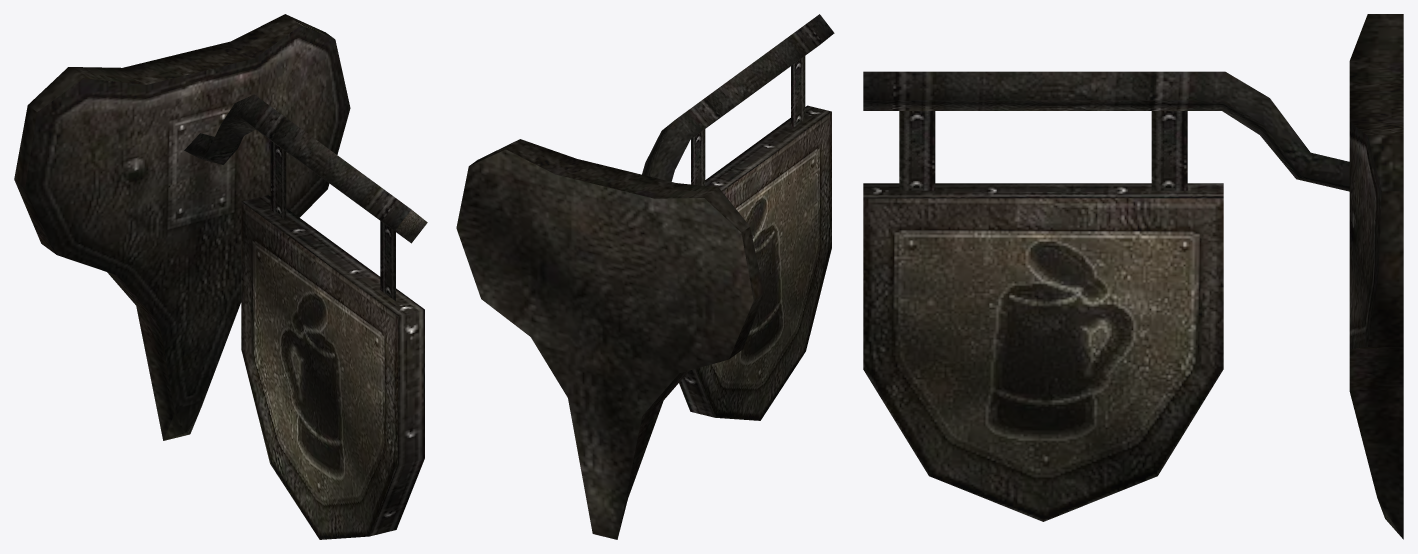
The model's file is NW_CITY_SIGN_PUB_01.glb.
3 views of the same model, side by side, from view 1: azimuth 30°, elevation 25°; view 2: azimuth 150°, elevation 25°; view 3: azimuth 270°, elevation 25° (orthographic). The views are drawn at different scales.
Parts seen in each view (by area): view 1: Mesh; view 2: Mesh; view 3: Mesh.
Boxes of the visible parts, x1=… form: Mesh: x1=14, y1=14, x2=427, y2=539; Mesh: x1=456, y1=14, x2=834, y2=539; Mesh: x1=863, y1=14, x2=1403, y2=539.
Size of the model in its own units: 0.96 by 1.13 by 1.2.
1 material, 1 textured.
